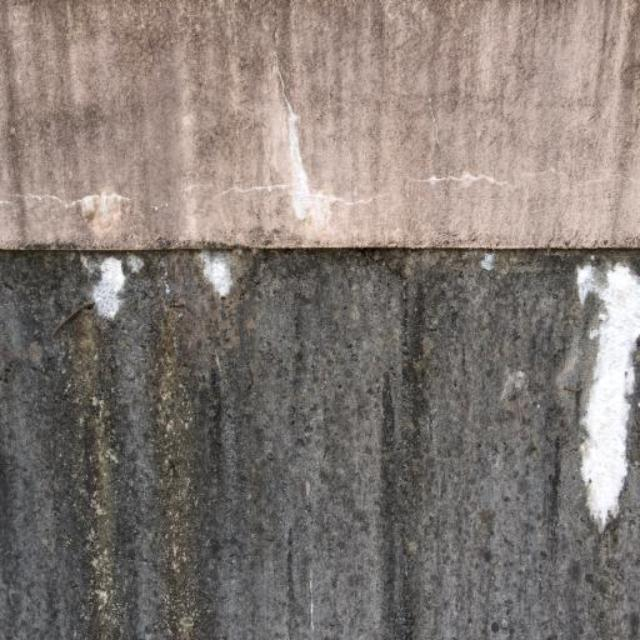D01: (582, 262, 639, 529), (90, 258, 124, 321), (202, 250, 233, 296)
